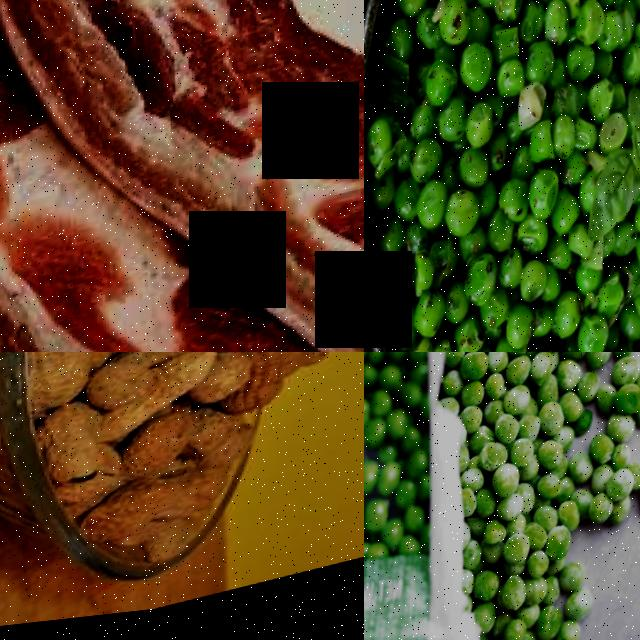peanuts: (97, 352, 233, 424), (27, 352, 110, 415)
peas: (370, 0, 640, 352), (436, 352, 639, 640), (364, 352, 459, 571), (566, 352, 640, 546)
pork belly: (0, 0, 364, 352)
